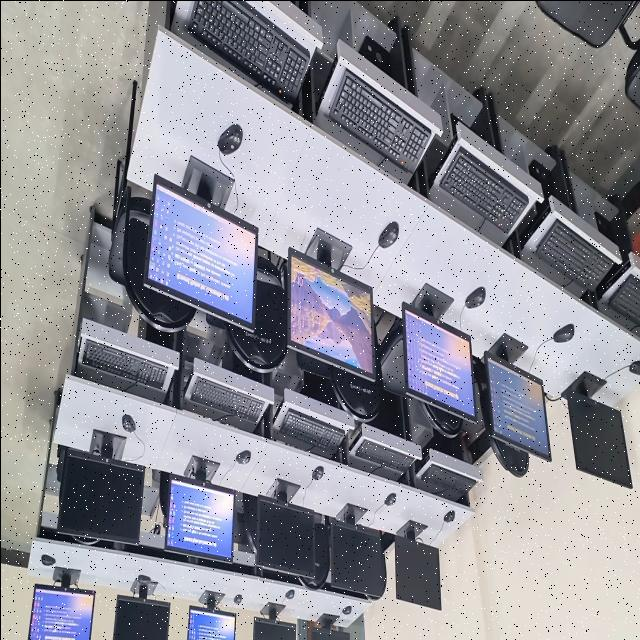Chair: (109, 183, 195, 331), (225, 253, 286, 372), (534, 0, 638, 48), (329, 366, 381, 421), (297, 522, 329, 589), (485, 430, 528, 477), (617, 24, 640, 111), (419, 401, 461, 436), (460, 383, 485, 438), (242, 494, 256, 550)
Cpu: (358, 36, 393, 75), (527, 158, 550, 198)
Keyboard: (187, 0, 307, 102), (327, 67, 429, 173), (439, 146, 527, 233), (534, 219, 613, 289), (81, 339, 166, 389), (348, 423, 420, 472), (415, 448, 482, 500), (188, 376, 261, 422), (278, 407, 344, 456), (607, 274, 640, 324)
Monitor: (144, 174, 257, 330), (285, 236, 377, 381), (400, 302, 474, 418), (560, 371, 631, 488), (57, 448, 143, 543), (486, 357, 549, 459), (165, 477, 233, 560), (329, 504, 385, 597), (253, 495, 315, 576), (27, 566, 94, 640), (393, 520, 440, 609), (112, 594, 169, 640), (186, 606, 235, 640), (252, 616, 295, 640), (310, 627, 349, 640)
Mouse: (217, 124, 241, 154), (378, 221, 398, 248), (464, 286, 484, 308), (552, 324, 573, 342), (121, 414, 134, 432), (235, 450, 250, 464), (628, 361, 640, 375), (40, 554, 54, 565), (311, 467, 322, 480), (443, 510, 454, 522), (384, 492, 395, 504), (284, 589, 294, 598), (233, 594, 241, 603), (341, 605, 350, 613)
